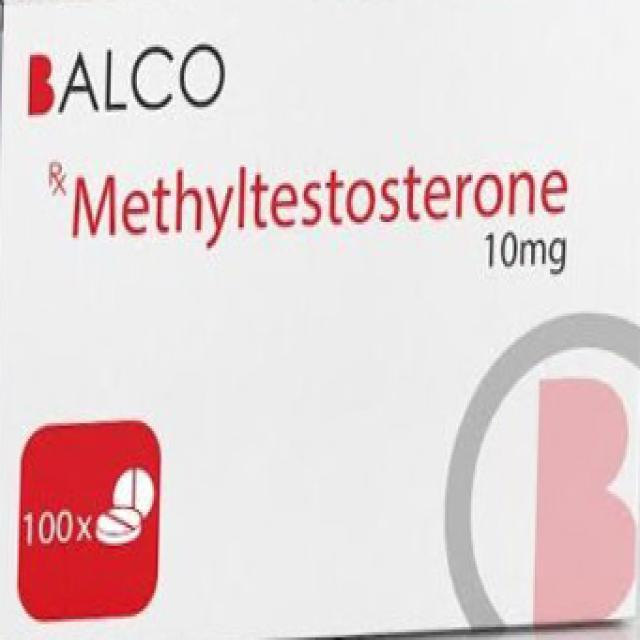drug-name: (21, 43, 240, 115)
